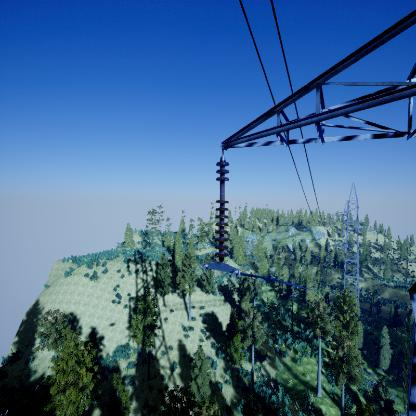insulator: (214, 159, 231, 261)
